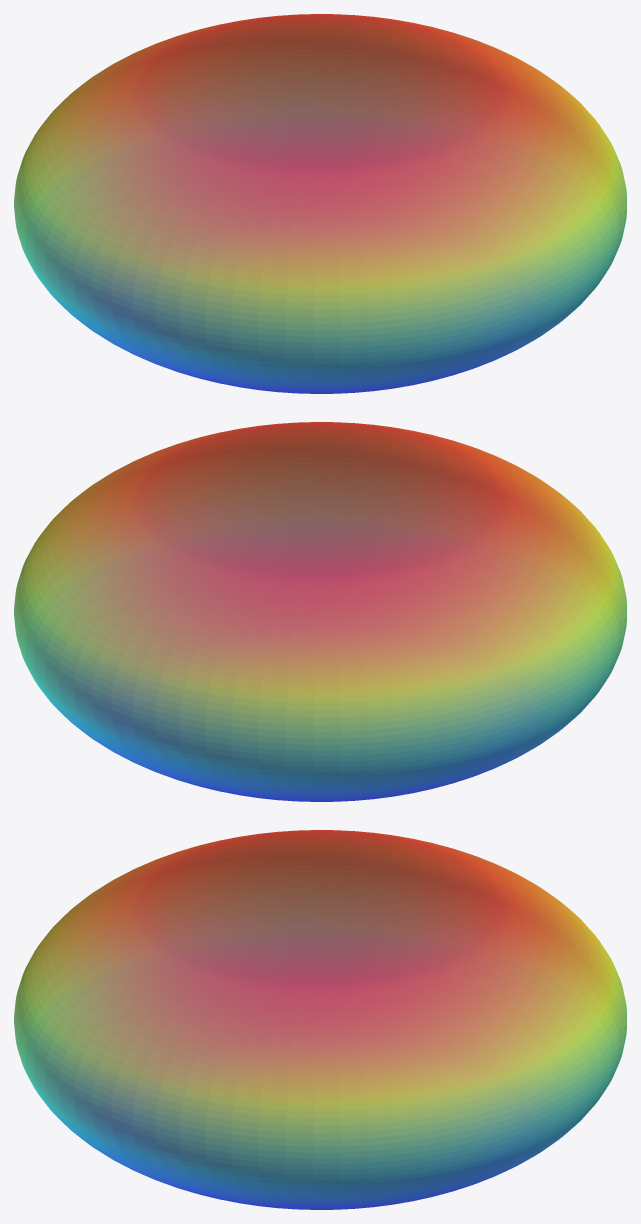
The model's file is elipsoide.gltf.
The picture shows the model from 3 angles, top to bottom: view 1: azimuth 30°, elevation 25°; view 2: azimuth 150°, elevation 25°; view 3: azimuth 270°, elevation 25°; orthographic projection.
Visible parts, largest first — view 1: Renderer Node; view 2: Renderer Node; view 3: Renderer Node.
Part boxes in pixels (bbox=[...]): Renderer Node: bbox=[14, 14, 626, 393]; Renderer Node: bbox=[14, 422, 626, 801]; Renderer Node: bbox=[14, 830, 626, 1209].
Size of the model in its own units: 4 by 2 by 4.
1 material, 1 textured.
